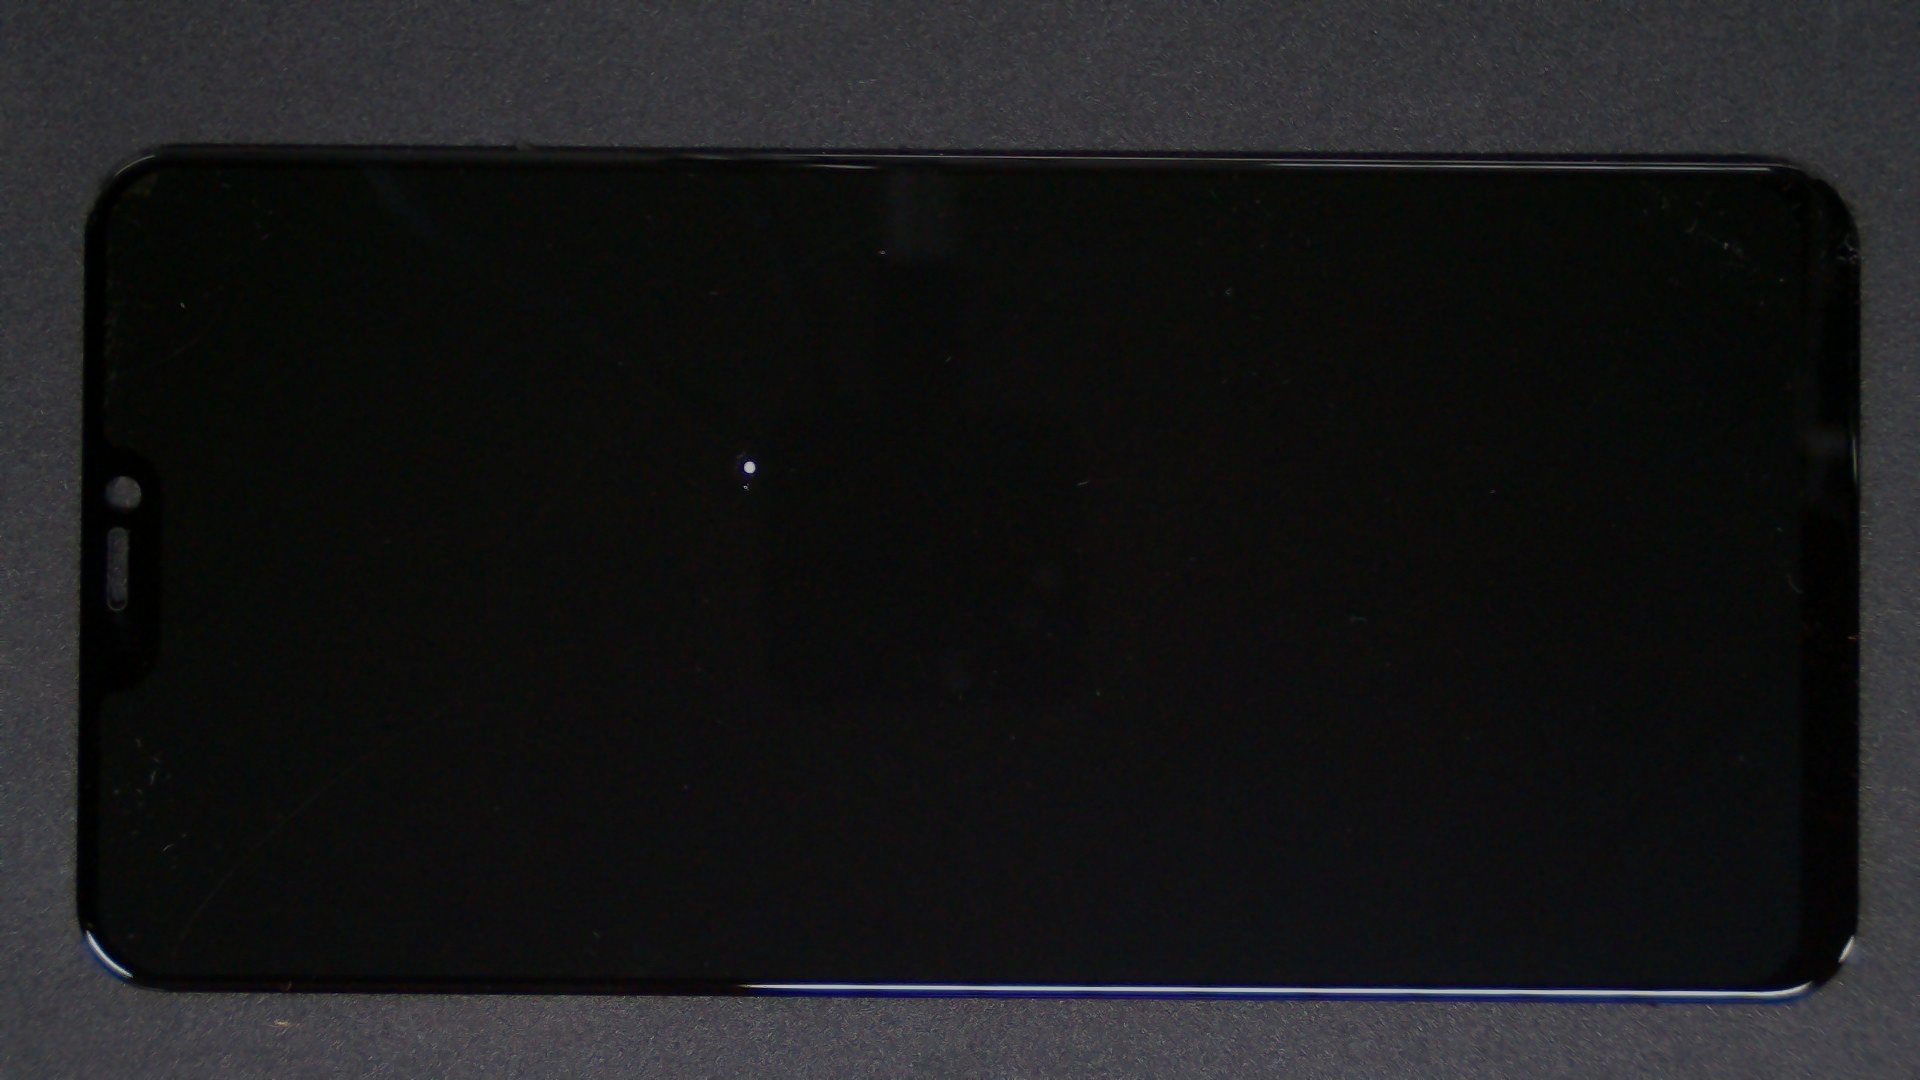oil: (375, 228, 1124, 687)
